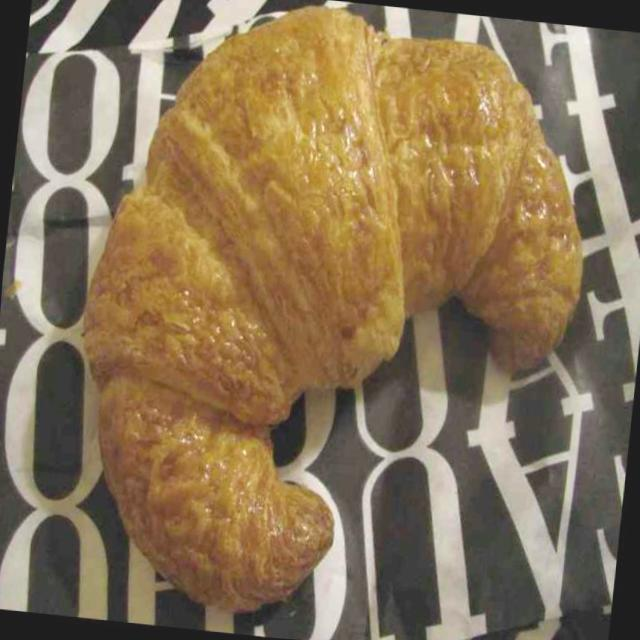Croissant: (45, 0, 615, 640)
